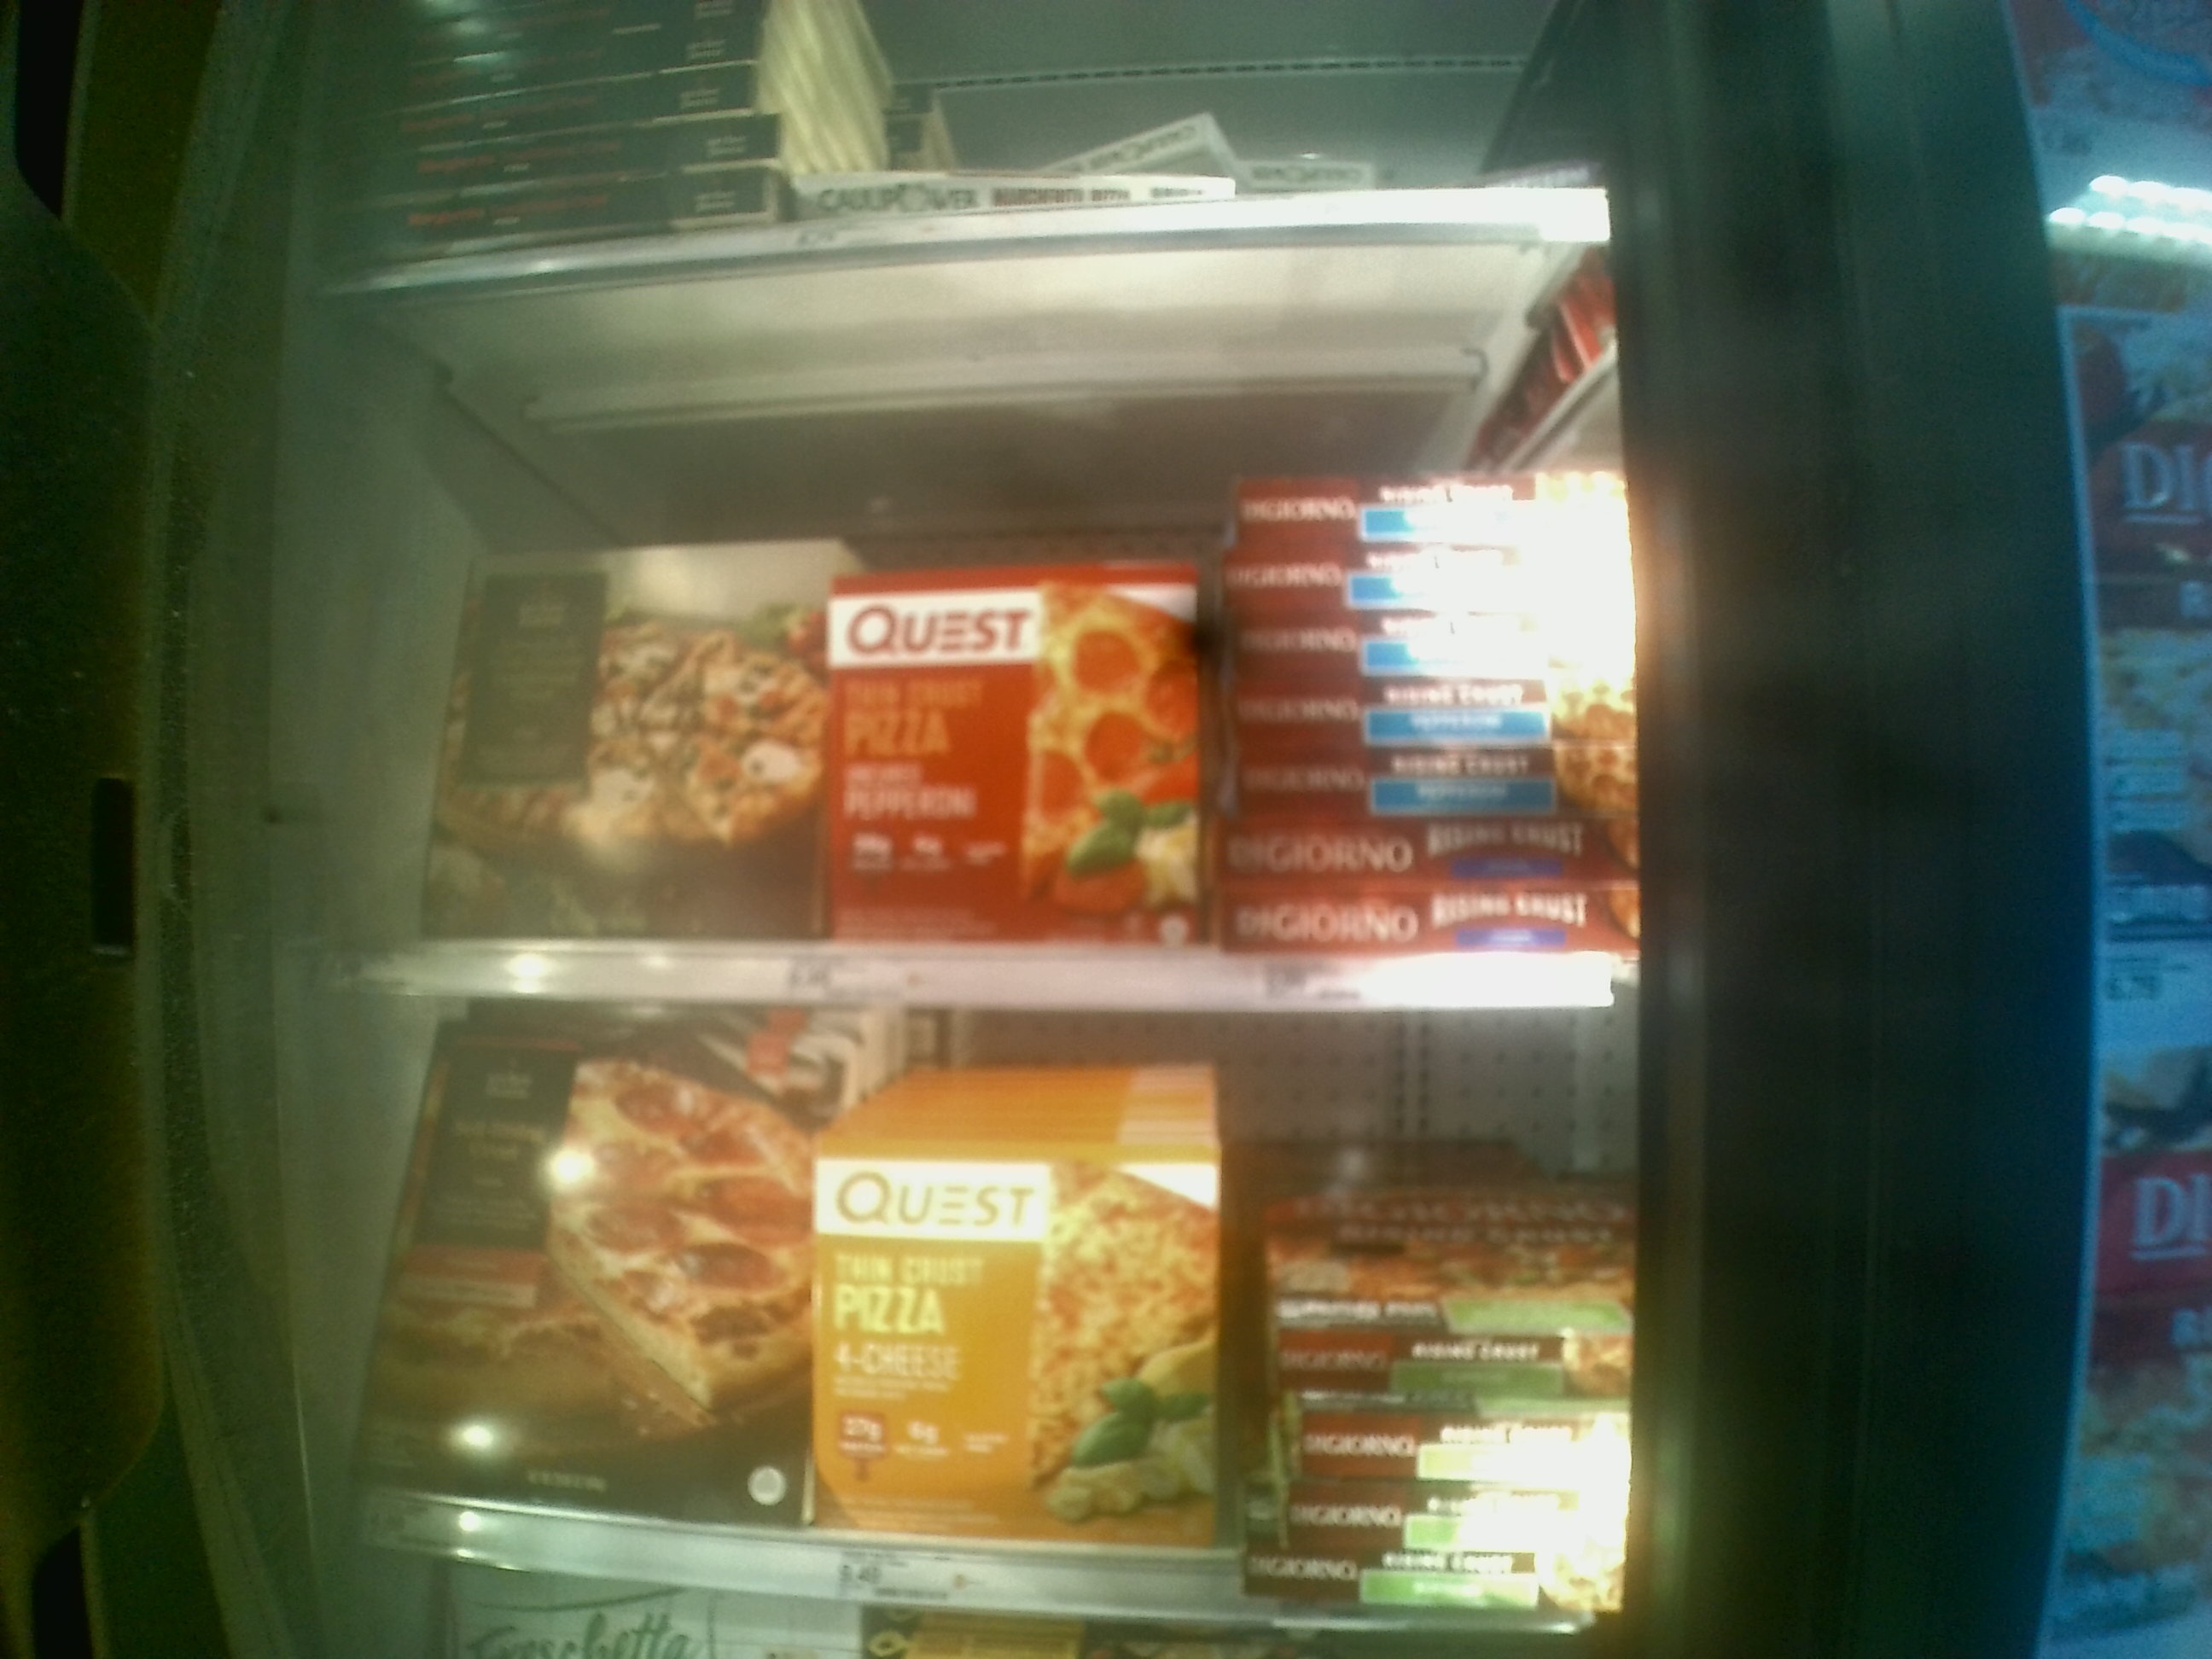shelf: (343, 985, 1669, 1635)
